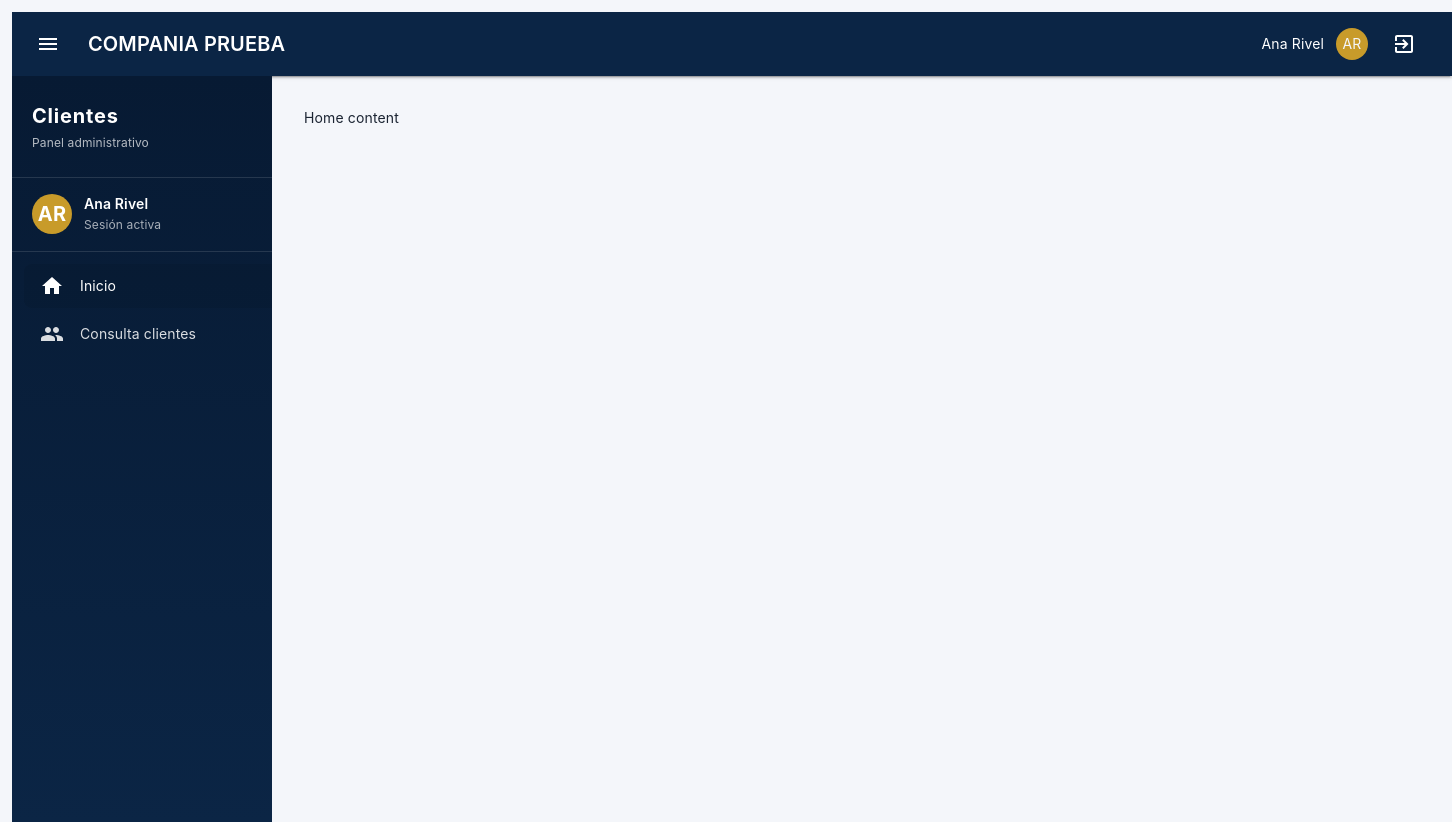
Test: AppShellLayout › logs out and redirects to /login when the toolbar button is clicked
This screenshot has width=1452, height=822.
Click the button with test id "shell-logout" at (1404, 44), box [1380,20,1428,68]
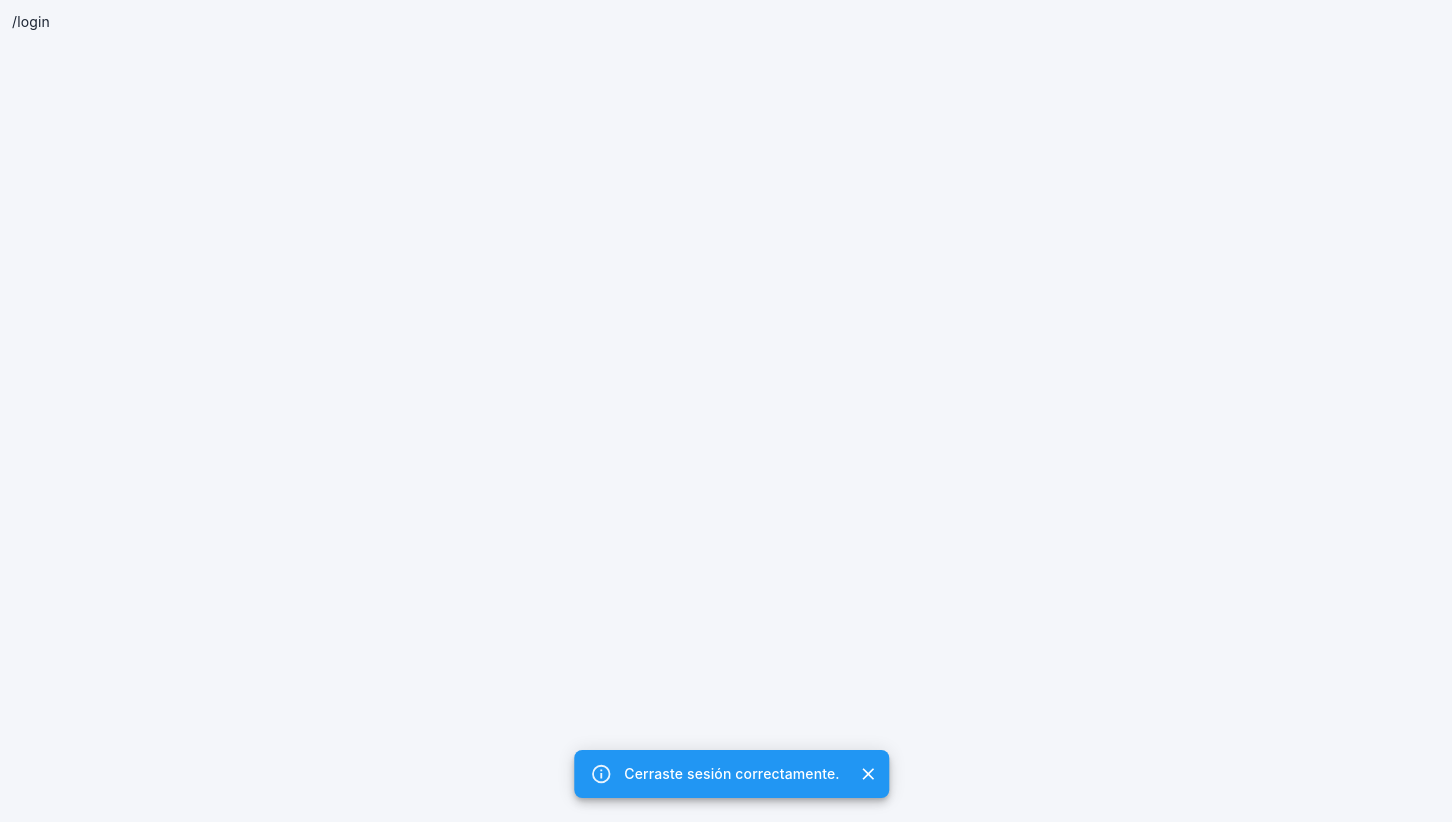
Expected: the text with test id "current-location" reads "/login", [12,13,50,30]
